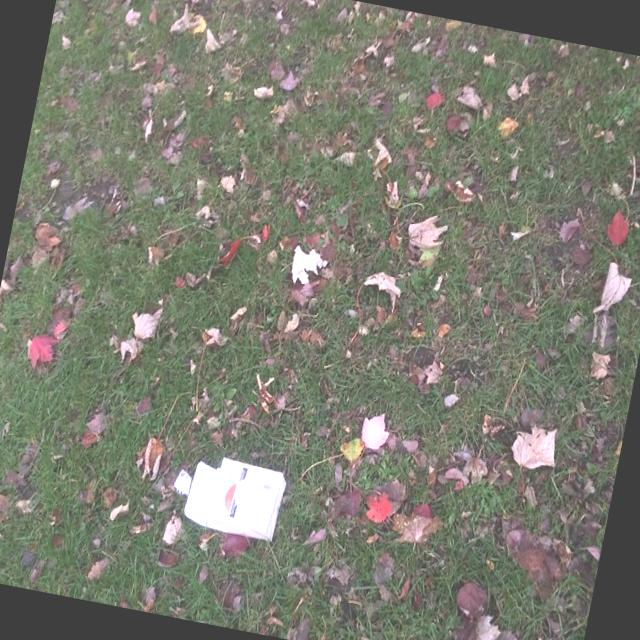Trash: (180, 448, 290, 544)
